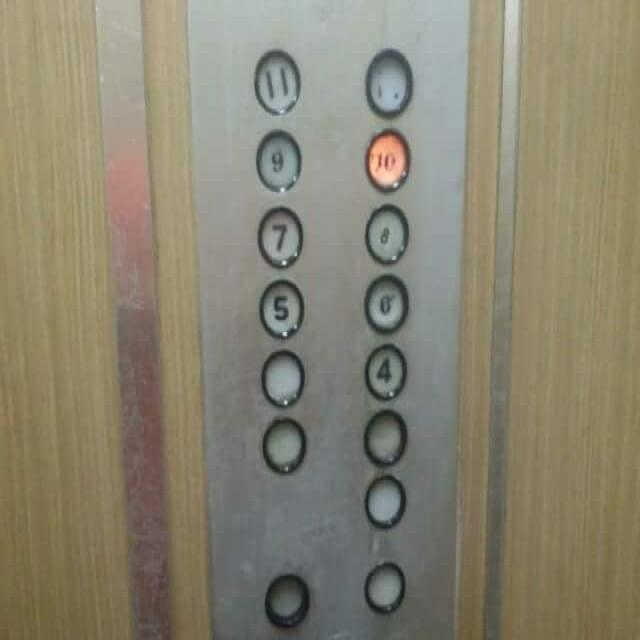10: (361, 123, 410, 192)
11: (251, 44, 301, 115)
4: (361, 338, 406, 398)
5: (255, 274, 304, 342)
6: (364, 273, 408, 332)
7: (255, 202, 302, 270)
8: (361, 202, 409, 266)
9: (255, 129, 301, 191)
blur: (364, 47, 412, 117)
empty: (262, 568, 309, 628), (258, 344, 304, 405), (361, 404, 406, 465), (261, 416, 305, 473), (362, 556, 405, 613), (363, 471, 405, 529)
